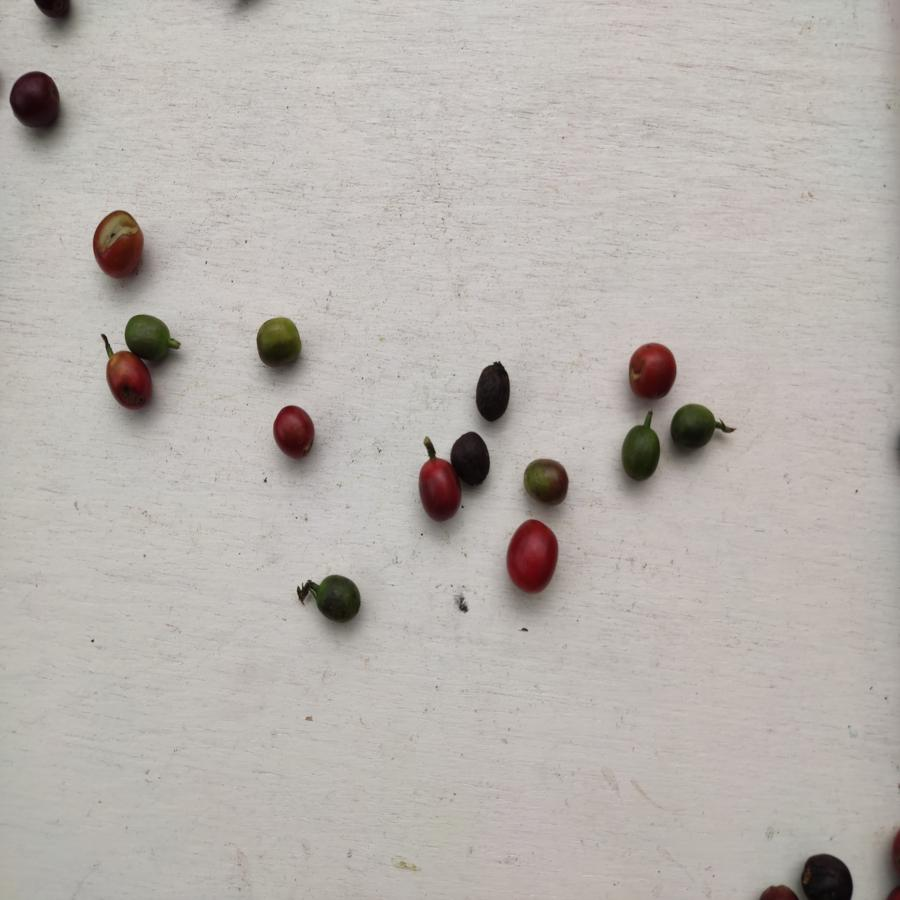Inmaduro: (666, 402, 719, 454), (124, 312, 174, 365), (311, 574, 362, 624), (620, 423, 661, 482)
Maduro: (503, 517, 559, 595), (90, 205, 147, 279), (101, 354, 160, 412), (418, 457, 464, 522), (628, 343, 676, 400), (271, 404, 318, 461)
Pinton: (255, 314, 306, 367), (521, 456, 572, 508)
Sobremaduro: (10, 69, 66, 129), (796, 850, 859, 900), (451, 429, 493, 491), (473, 362, 514, 424)
